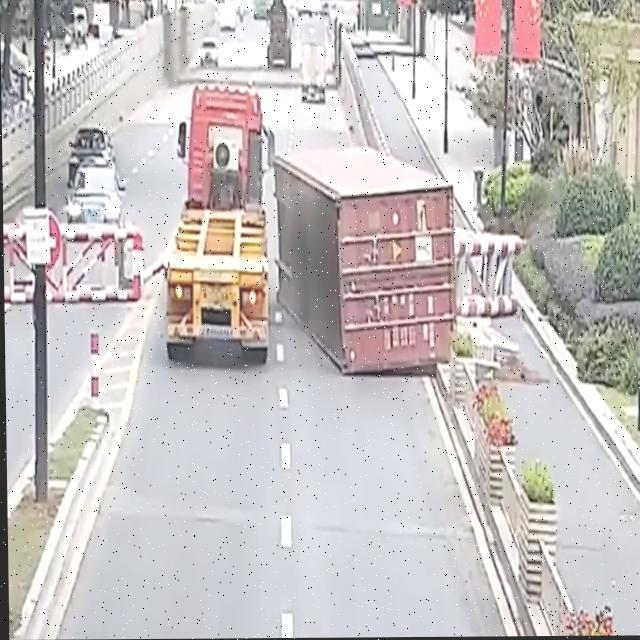single accident: (132, 73, 470, 400)
